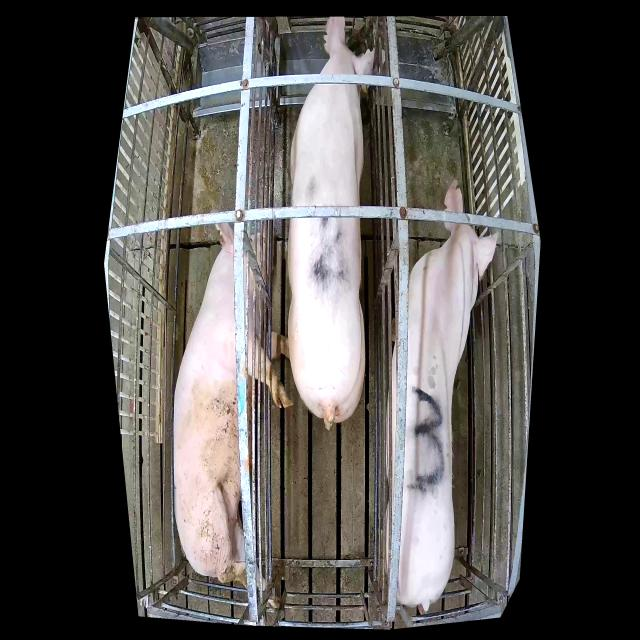pig: (385, 179, 499, 615), (174, 221, 293, 592), (288, 18, 385, 431)
